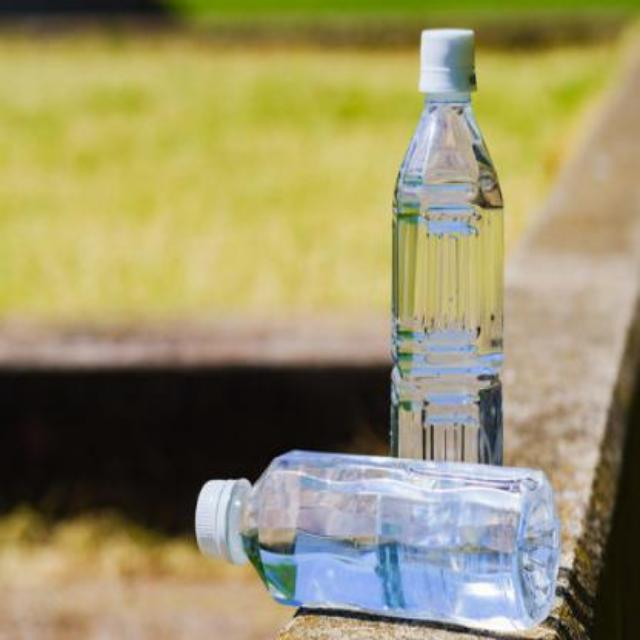bottle: (182, 434, 568, 638), (380, 12, 508, 616)
